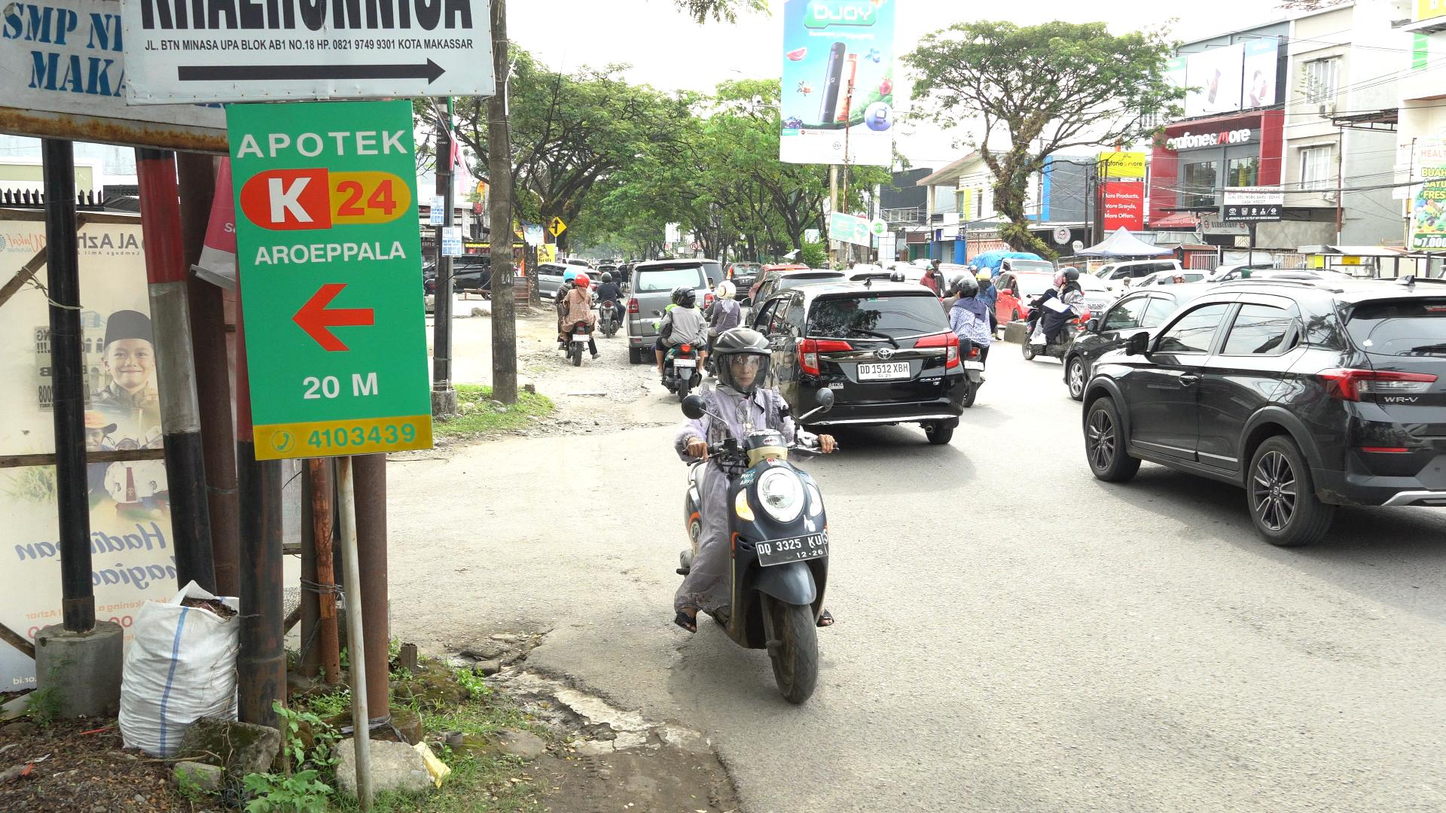number-plate: (756, 529, 831, 569)
